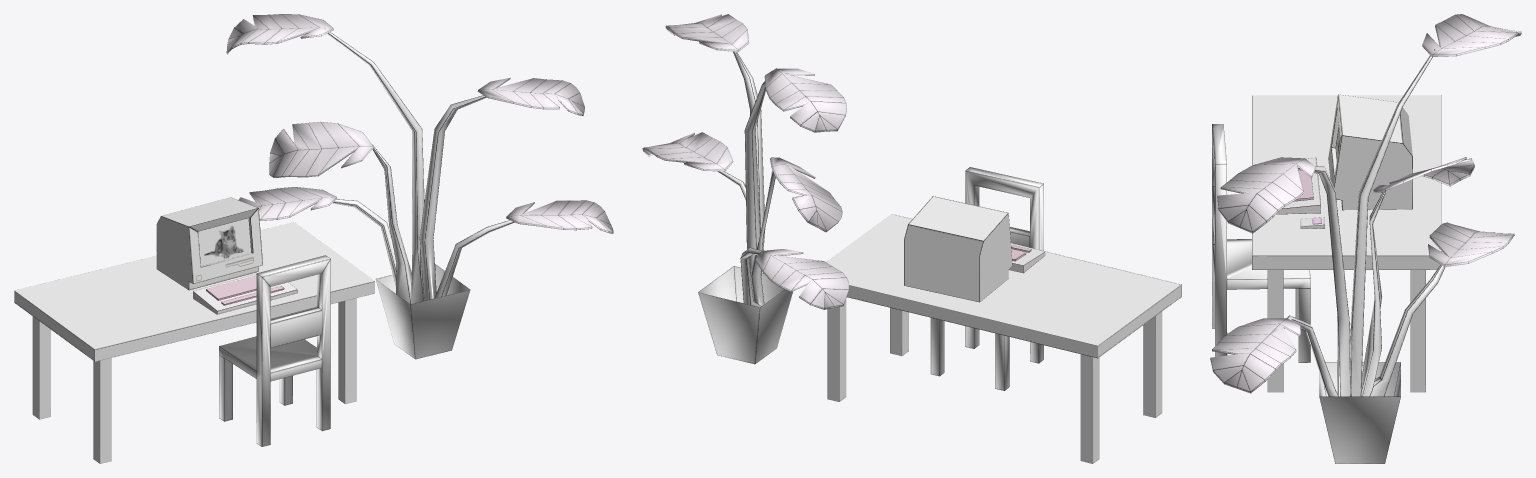
Rendered from room_draft05.gltf.
3 renders of one model, left to right at view 1: azimuth 30°, elevation 25°; view 2: azimuth 150°, elevation 25°; view 3: azimuth 270°, elevation 25°, orthographic. The views are drawn at different scales.
Parts seen in each view (by area): view 1: Palm, Table, Chair, Monitor, Keyboard, Screen; view 2: Table, Palm, Monitor, Chair, Keyboard; view 3: Palm, Table, Monitor, Chair, Keyboard.
Part boxes in pixels (left/top/right/bottom): Palm: left=226, top=14, right=613, bottom=359; Table: left=14, top=222, right=374, bottom=463; Chair: left=219, top=255, right=330, bottom=446; Monitor: left=156, top=197, right=262, bottom=290; Keyboard: left=193, top=274, right=297, bottom=314; Screen: left=198, top=218, right=251, bottom=265; Table: left=826, top=214, right=1181, bottom=463; Palm: left=642, top=14, right=848, bottom=364; Monitor: left=904, top=196, right=1012, bottom=302; Chair: left=930, top=167, right=1043, bottom=390; Keyboard: left=1009, top=244, right=1045, bottom=273; Palm: left=1210, top=14, right=1521, bottom=463; Table: left=1252, top=95, right=1441, bottom=392; Monitor: left=1328, top=94, right=1412, bottom=210; Chair: left=1212, top=124, right=1310, bottom=362; Keyboard: left=1276, top=157, right=1320, bottom=214.
Size of the model in its own units: 203 by 117 by 90.47.
Materials: 13 (13 with a texture image).
